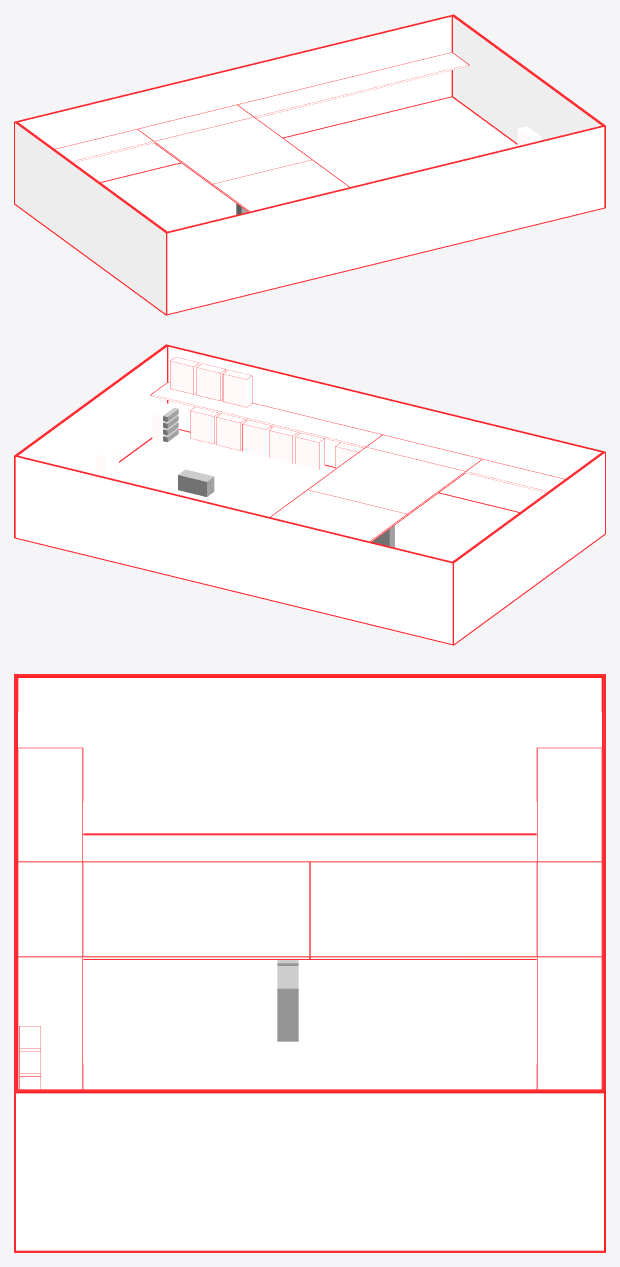
File: library 0.2.glb
3 renders of one model, top to bottom at view 1: azimuth 30°, elevation 25°; view 2: azimuth 150°, elevation 25°; view 3: azimuth 270°, elevation 25°, orthographic. The views are drawn at different scales.
Parts seen in each view (by area): view 1: Plane, Plane.001, Plane.002, Plane.003; view 2: Plane, Plane.001, Plane.002, Cube.012, Cube.008, Cube.009, Cube.002, Plane.003, Cube.011, Cube.016, Cube.014, Cube.015 (+1 smaller); view 3: Plane, Plane.001, Plane.002, Plane.003, Cube, Cube.008, Cube.012.
Boxes of the visible parts, x1,y1,x2,y2 form: Plane: [15, 16, 604, 313]; Plane.001: [56, 52, 468, 211]; Plane.002: [14, 14, 605, 315]; Plane.003: [55, 52, 469, 211]; Plane: [15, 346, 604, 643]; Plane.001: [151, 382, 563, 541]; Plane.002: [14, 344, 605, 645]; Cube.012: [146, 445, 310, 500]; Cube.008: [170, 357, 251, 406]; Cube.009: [243, 420, 324, 469]; Cube.002: [190, 407, 245, 450]; Plane.003: [150, 382, 564, 541]; Cube.011: [178, 469, 214, 496]; Cube.016: [96, 444, 118, 478]; Cube.014: [152, 403, 175, 442]; Cube.015: [163, 407, 178, 442]; Plane: [16, 678, 603, 1250]; Plane.001: [18, 748, 601, 1089]; Plane.002: [14, 674, 605, 1252]; Plane.003: [17, 747, 602, 1089]; Cube: [277, 966, 298, 1041]; Cube.008: [20, 1026, 40, 1089]; Cube.012: [160, 1049, 189, 1089].
Bounding box in the file's own units: 30.32 × 5.45 × 18.15.
